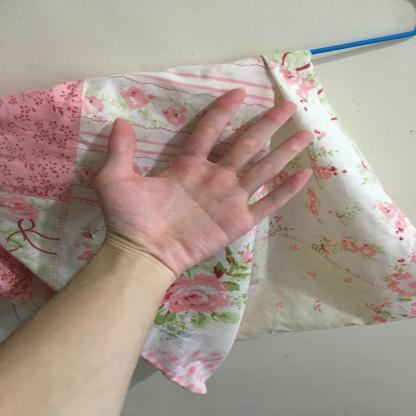bare_hand: (91, 80, 332, 274)
